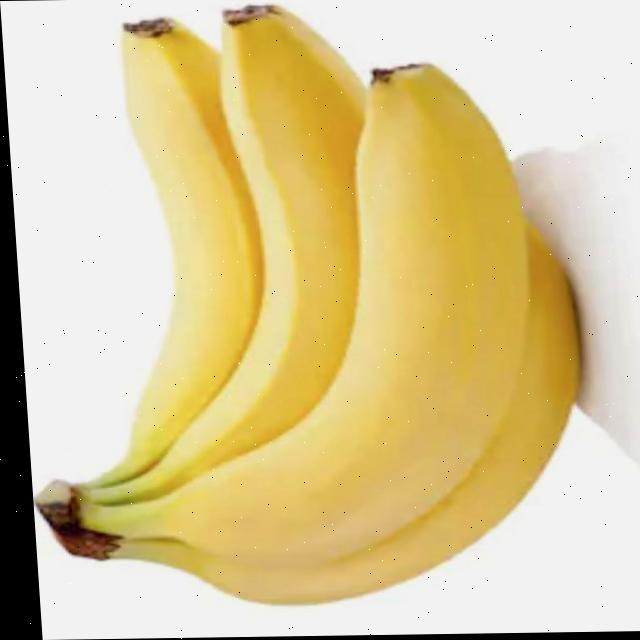banana: (32, 0, 625, 606)
